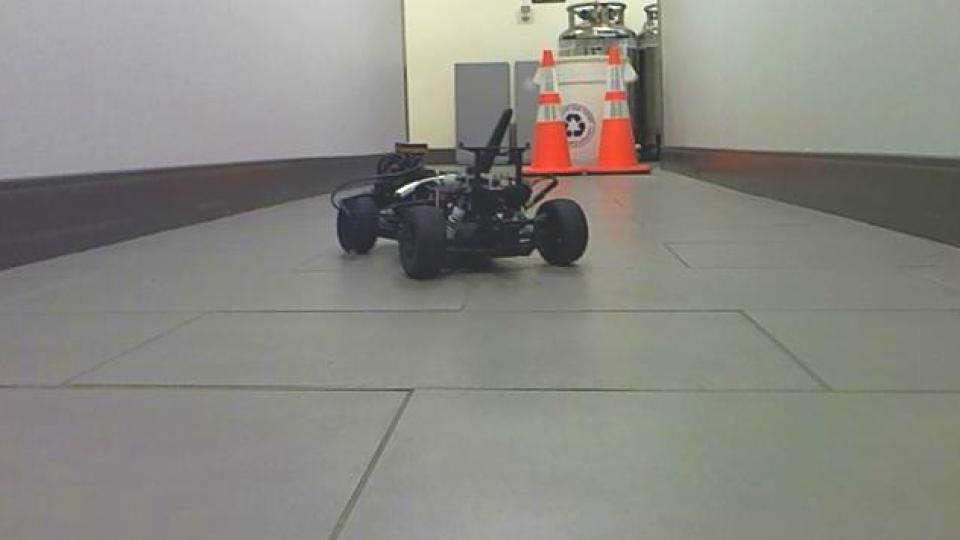car: (326, 106, 591, 282)
